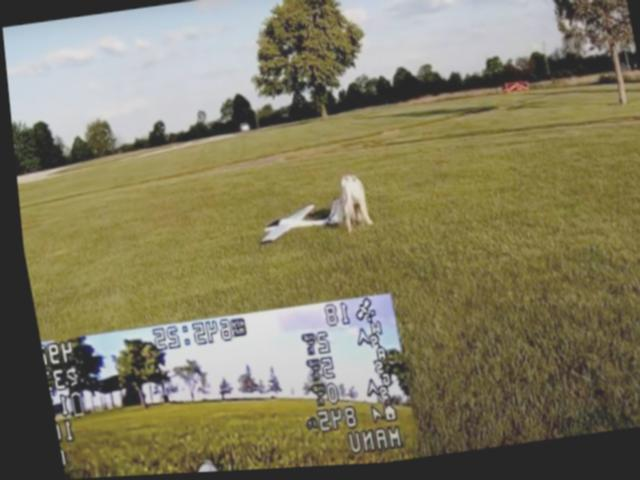iha: (245, 197, 344, 248)
